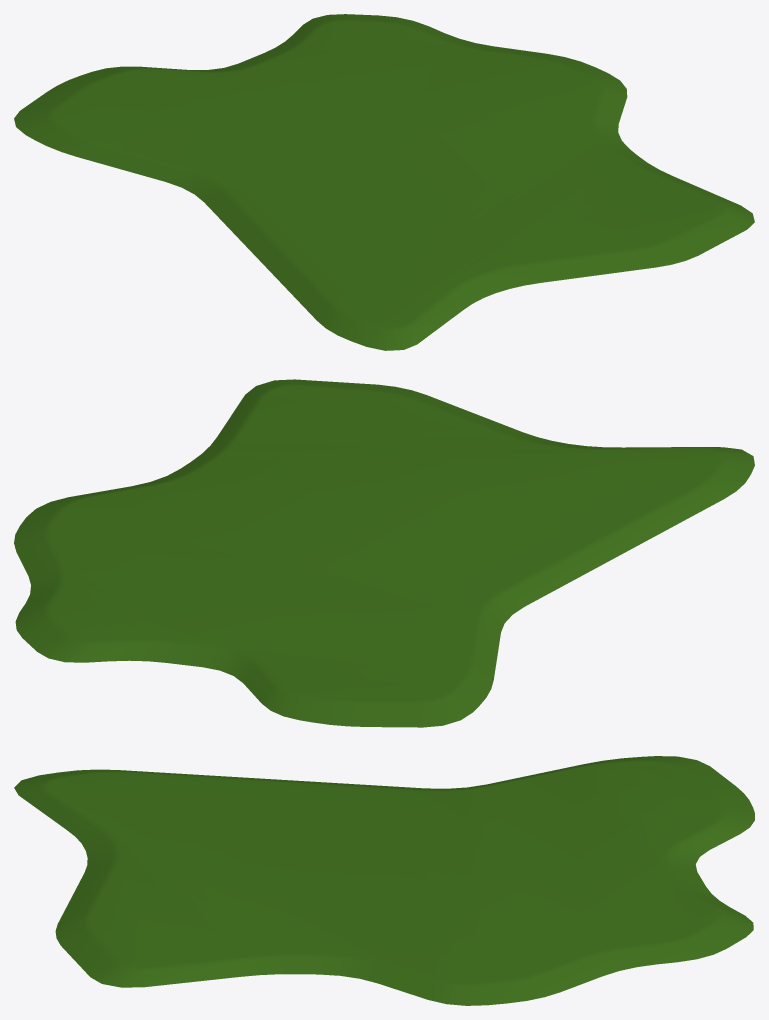
The model's file is GroundPadding03_2.fbx.
3 views of the same model, one above another, from view 1: azimuth 30°, elevation 25°; view 2: azimuth 150°, elevation 25°; view 3: azimuth 270°, elevation 25° (orthographic). The views are drawn at different scales.
Visible parts, largest first — view 1: LOD0; view 2: LOD0; view 3: LOD0.
Part boxes in pixels (bbox=[...]): LOD0: bbox=[14, 14, 754, 350]; LOD0: bbox=[14, 379, 754, 727]; LOD0: bbox=[14, 756, 754, 1005].
Size of what is drawn, in the model's own units: 1323 by 1658 by 20.75.
